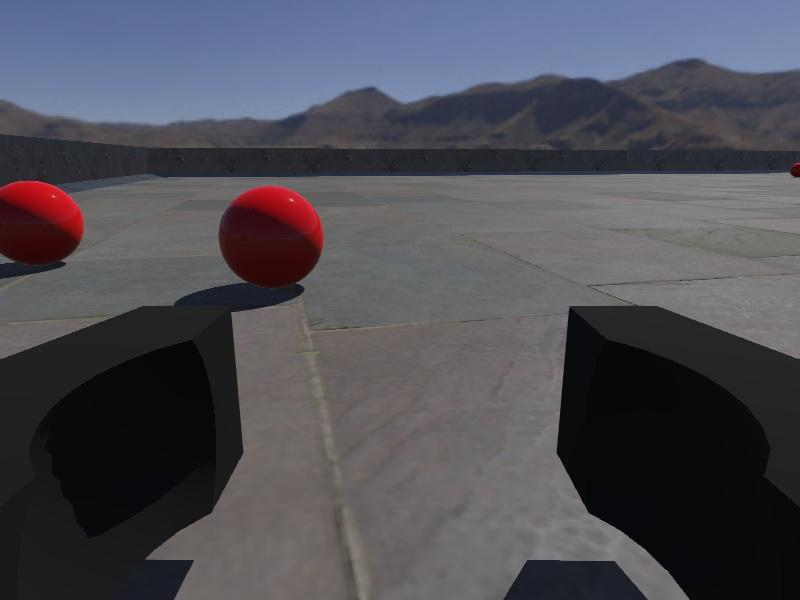red ball: (217, 184, 325, 292)
